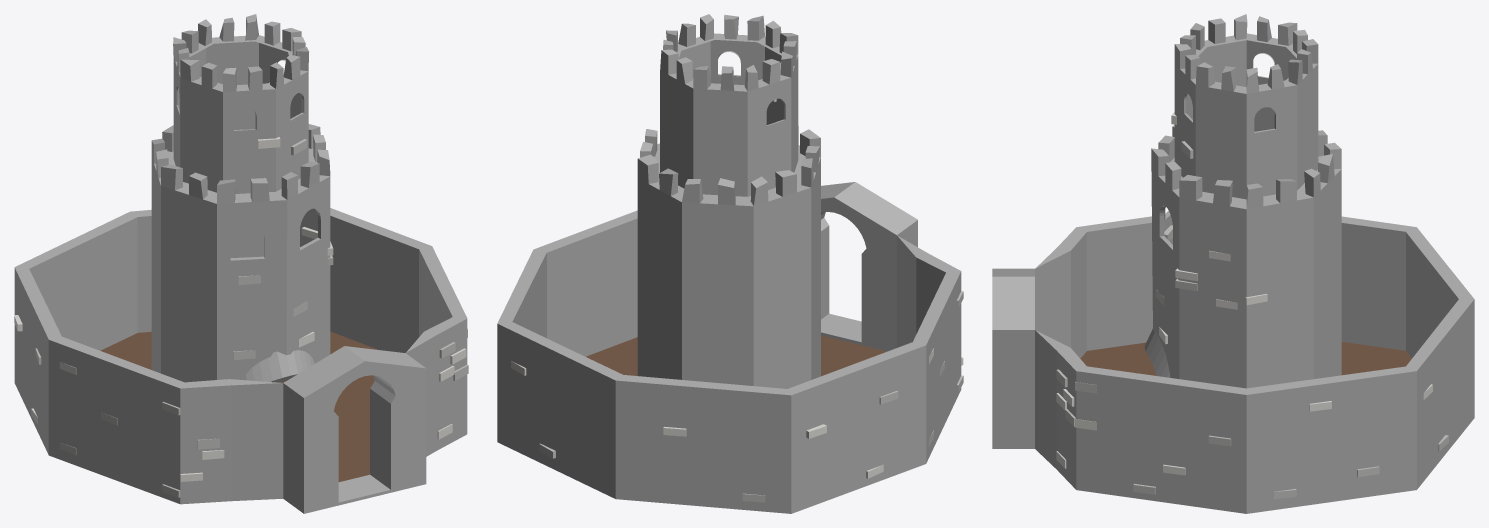
Rendered from castle.obj.
The picture shows the model from 3 angles, left to right: view 1: azimuth 30°, elevation 25°; view 2: azimuth 150°, elevation 25°; view 3: azimuth 270°, elevation 25°; orthographic projection. The views are drawn at different scales.
Parts seen in each view (by area): view 1: castle; view 2: castle; view 3: castle.
Boxes of the visible parts, left/top/right/bottom form: castle: left=14, top=14, right=468, bottom=513; castle: left=497, top=14, right=963, bottom=513; castle: left=992, top=14, right=1474, bottom=513.
Size of the model in its own units: 17.27 by 15.76 by 18.3.
